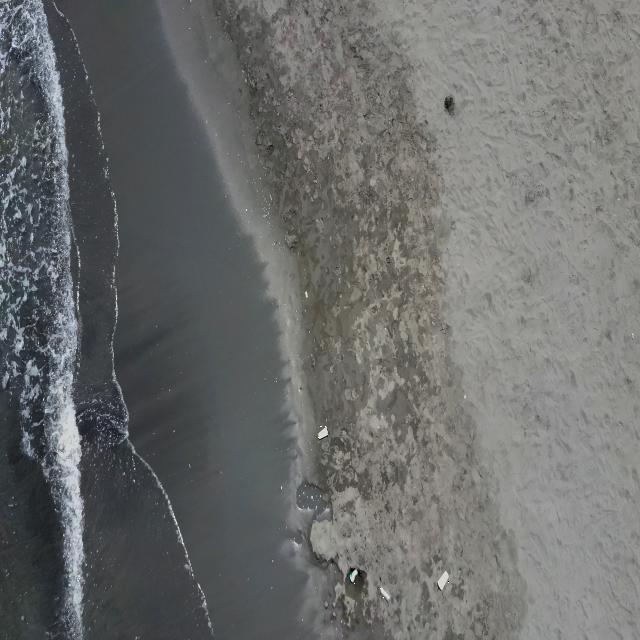takeaway-cup: (437, 571, 449, 590), (380, 587, 390, 602), (318, 426, 328, 440), (350, 568, 358, 584)
